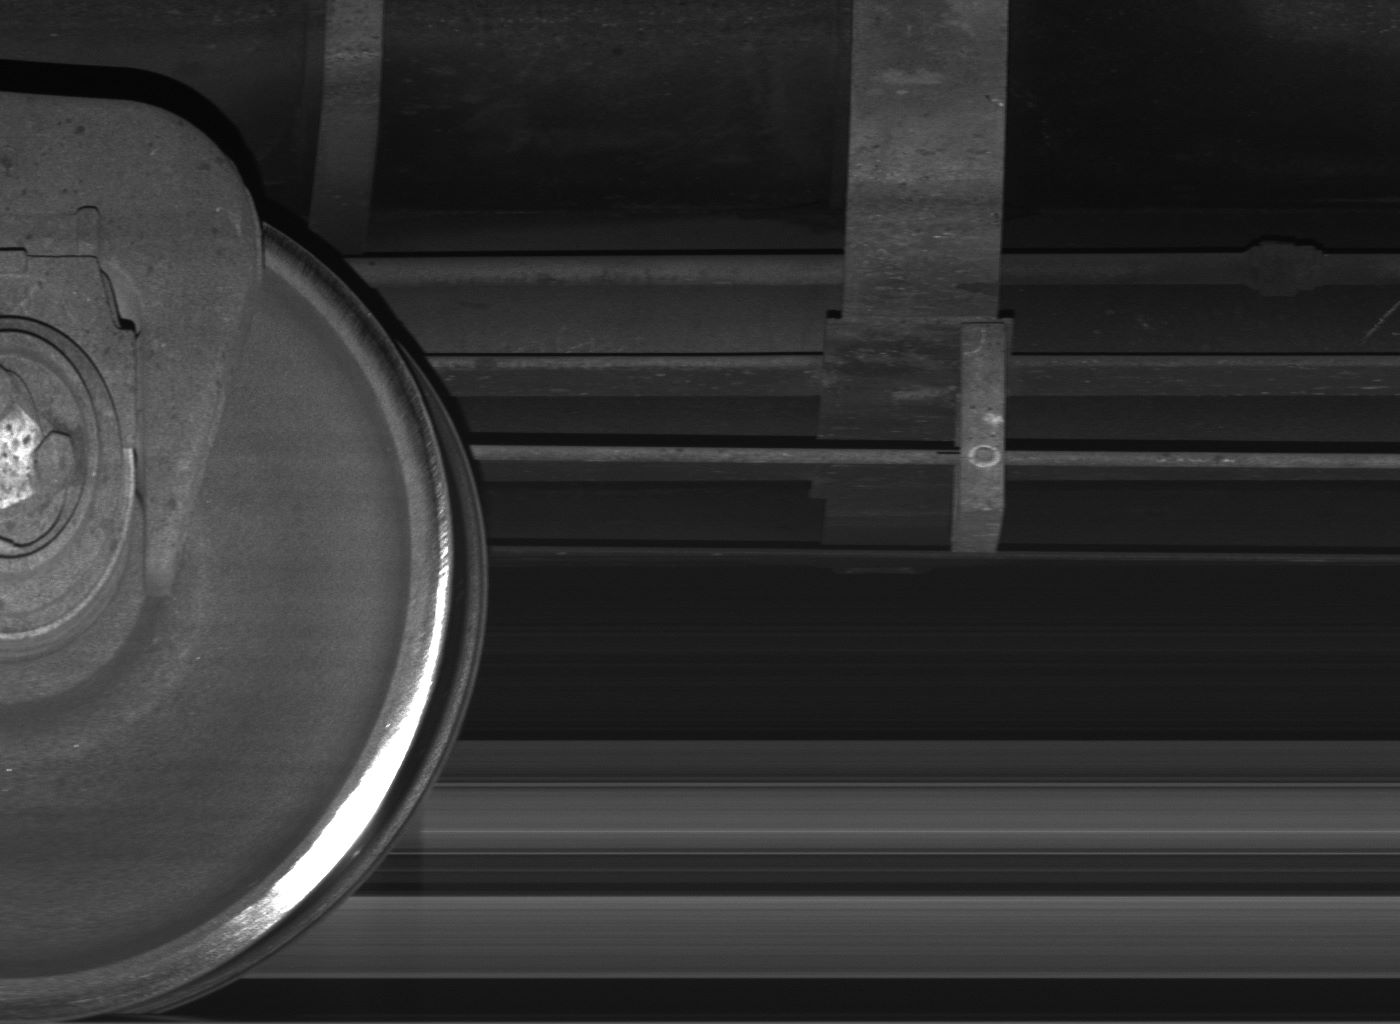normal: (952, 321, 1008, 553)
